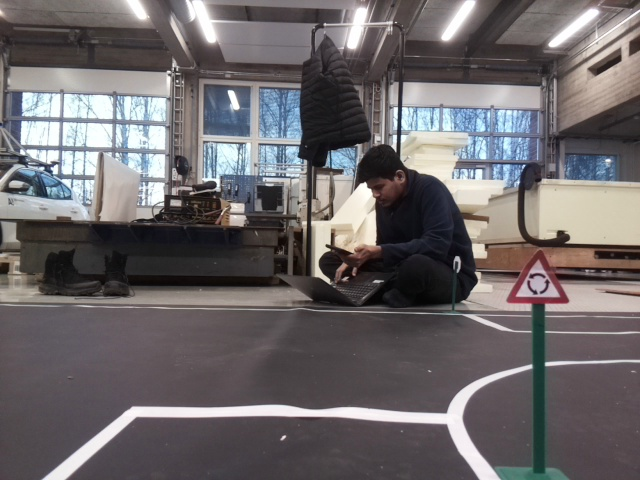Roundabout: (507, 249, 569, 302)
